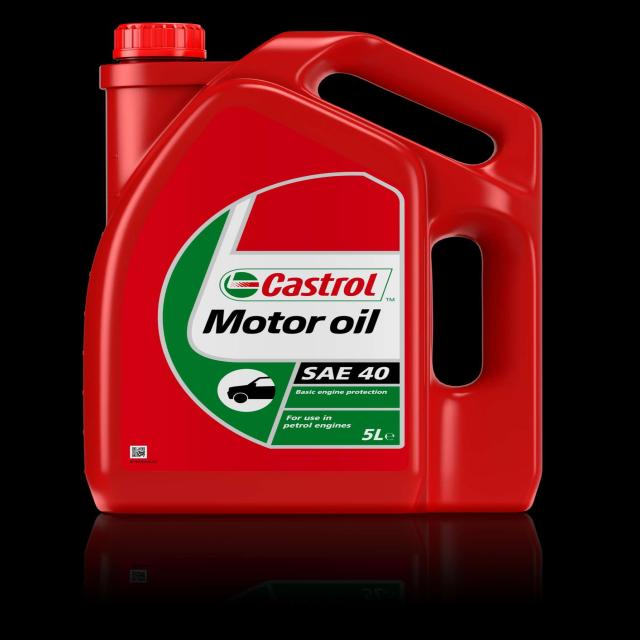-oil-: (87, 16, 552, 526)
